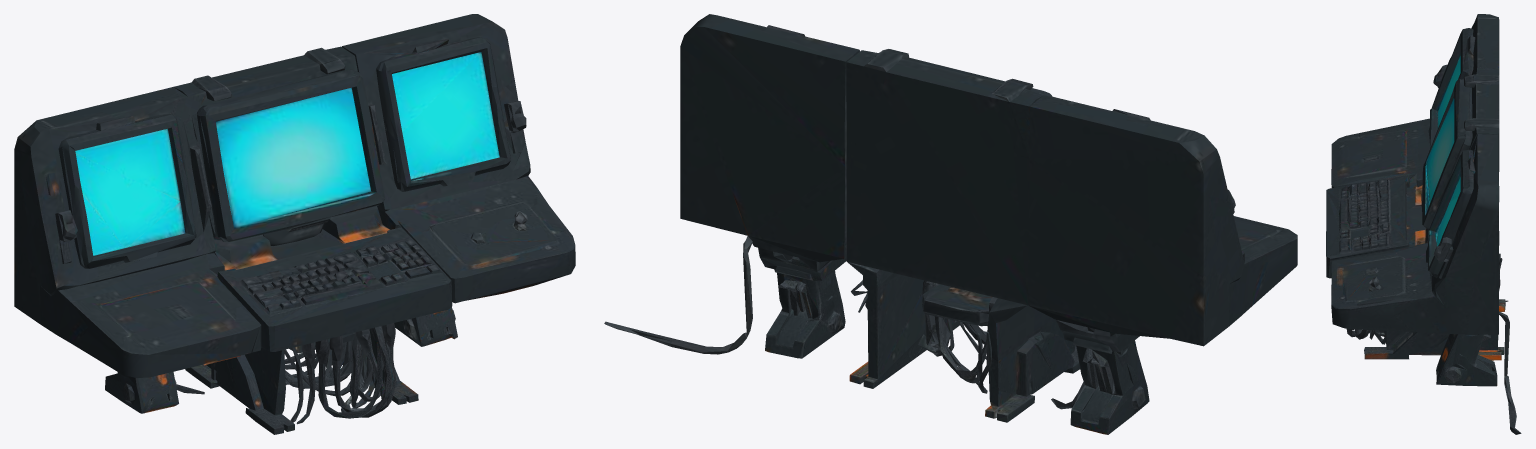
The model's file is lab_console.glb.
The picture shows the model from 3 angles, left to right: view 1: azimuth 30°, elevation 25°; view 2: azimuth 150°, elevation 25°; view 3: azimuth 270°, elevation 25°; orthographic projection. The views are drawn at different scales.
Bounding box in the file's own units: 1.9 × 1.01 × 0.7665.
Materials: 1 (1 with a texture image).
